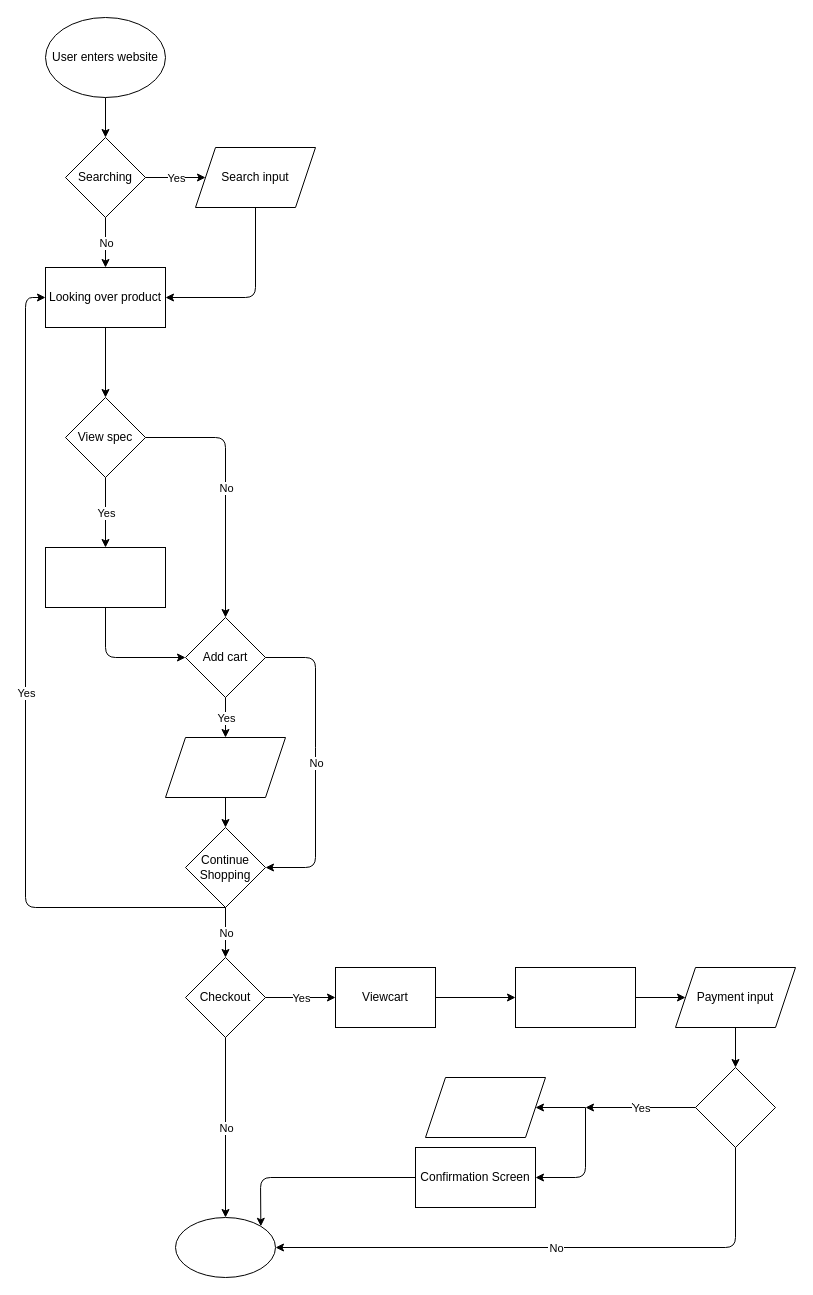
This 813x1295 diagram has some shape labels left out. Each missing label, with the centre of its shape:
Confirmation: pixel 225 767
Confrim Email: pixel 485 1107
Exit website: pixel 225 1247
Paided: pixel 735 1107
Spec page loaded: pixel 105 577
ViewPayment: pixel 575 997
